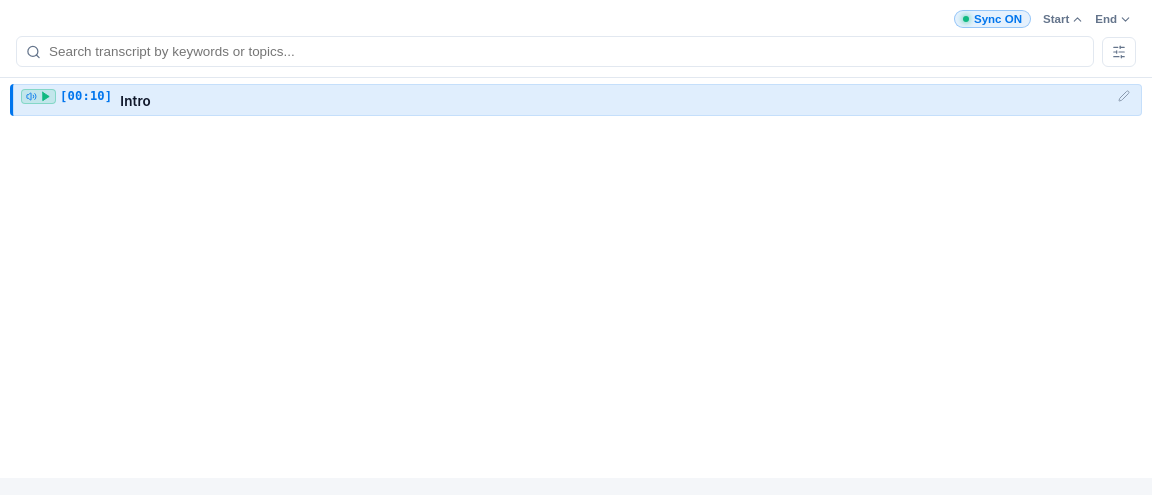
TranscriptSearch › toggles auto-scroll sync ON and OFF when clicking the sync button
Click the button with aria-label "Pause auto-scroll sync".
click(992, 19)  # box [954,10,1031,28]
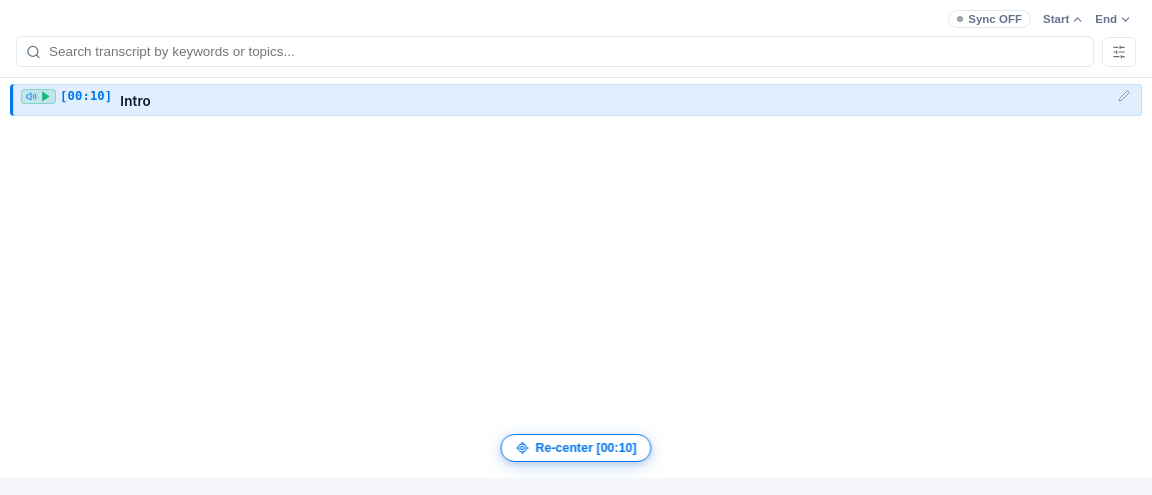
Expected: the button named "Pause auto-scroll sync" reads "Sync OFF"
Click the button named "Pause auto-scroll sync".
click(990, 19)  # box [948,10,1031,28]
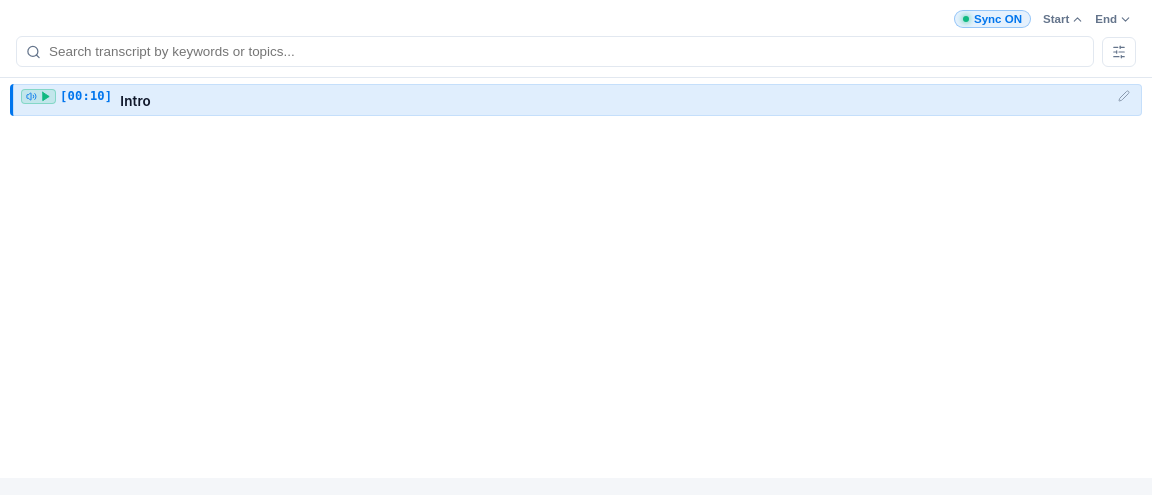
Expected: the button with aria-label "Pause auto-scroll sync" reads "Sync ON", [954,10,1031,28]
